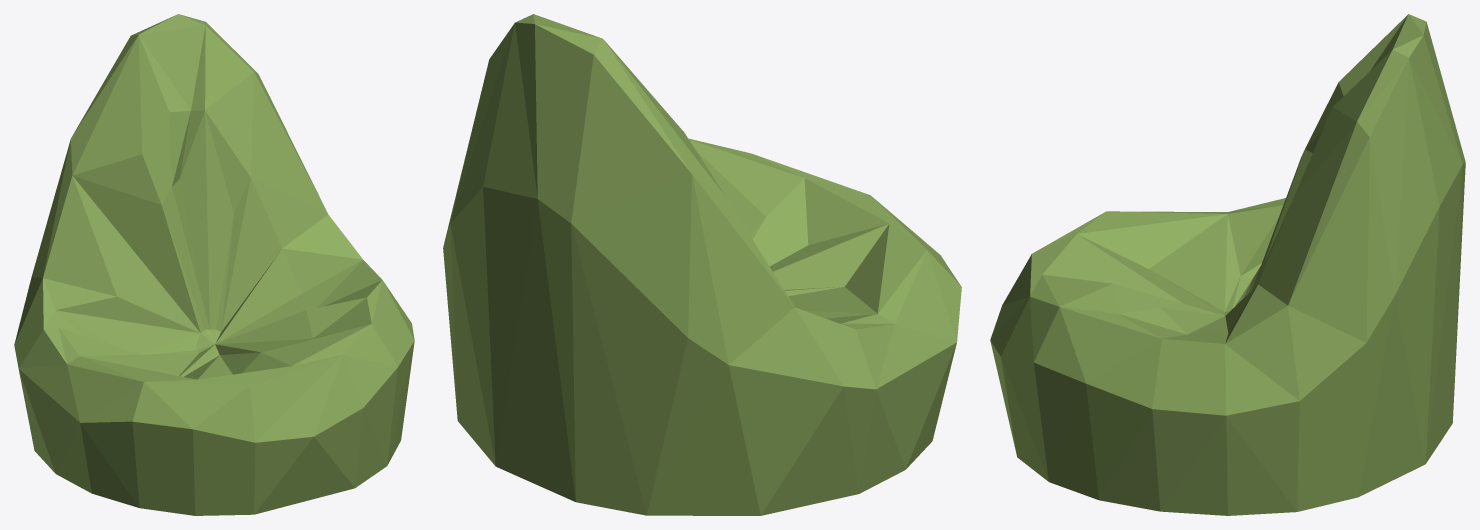
The model's file is BeanBag.fbx.
3 renders of one model, left to right at view 1: azimuth 30°, elevation 25°; view 2: azimuth 150°, elevation 25°; view 3: azimuth 270°, elevation 25°, orthographic. The views are drawn at different scales.
Visible parts, largest first — view 1: BeanBag1; view 2: BeanBag1; view 3: BeanBag1.
Part boxes in pixels (bbox=[...]): BeanBag1: bbox=[14, 14, 414, 515]; BeanBag1: bbox=[443, 14, 961, 515]; BeanBag1: bbox=[990, 14, 1465, 515].
Bounding box in the file's own units: 7.15 × 7.16 × 7.29.
